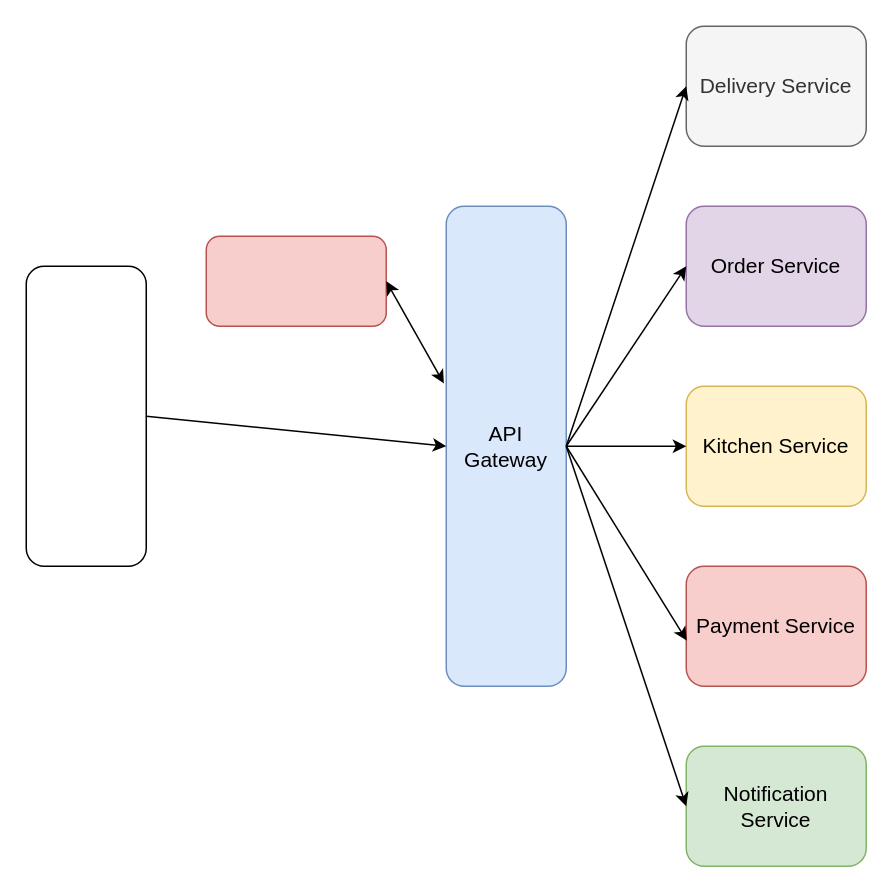
This 893x893 diagram has some shape labels left out. Each missing label, with the centre of its shape:
Client: point (85, 415)
Identity Provider: point (295, 280)
